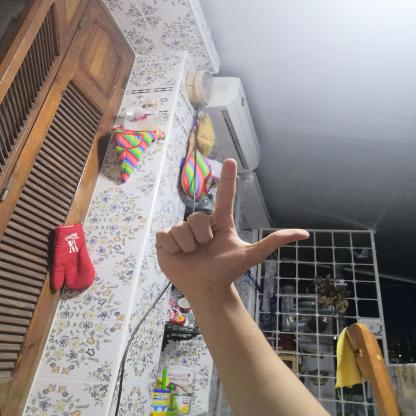LAAM: (136, 151, 320, 304)
